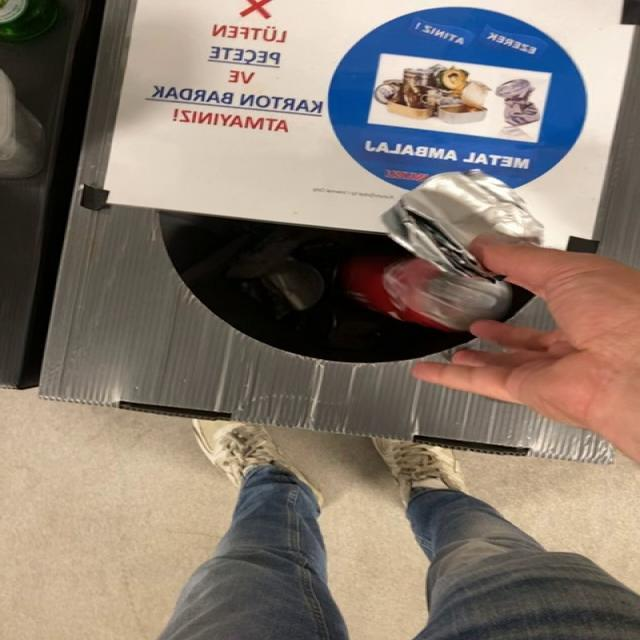Bin: (40, 0, 639, 464)
Metal: (340, 256, 512, 332)
